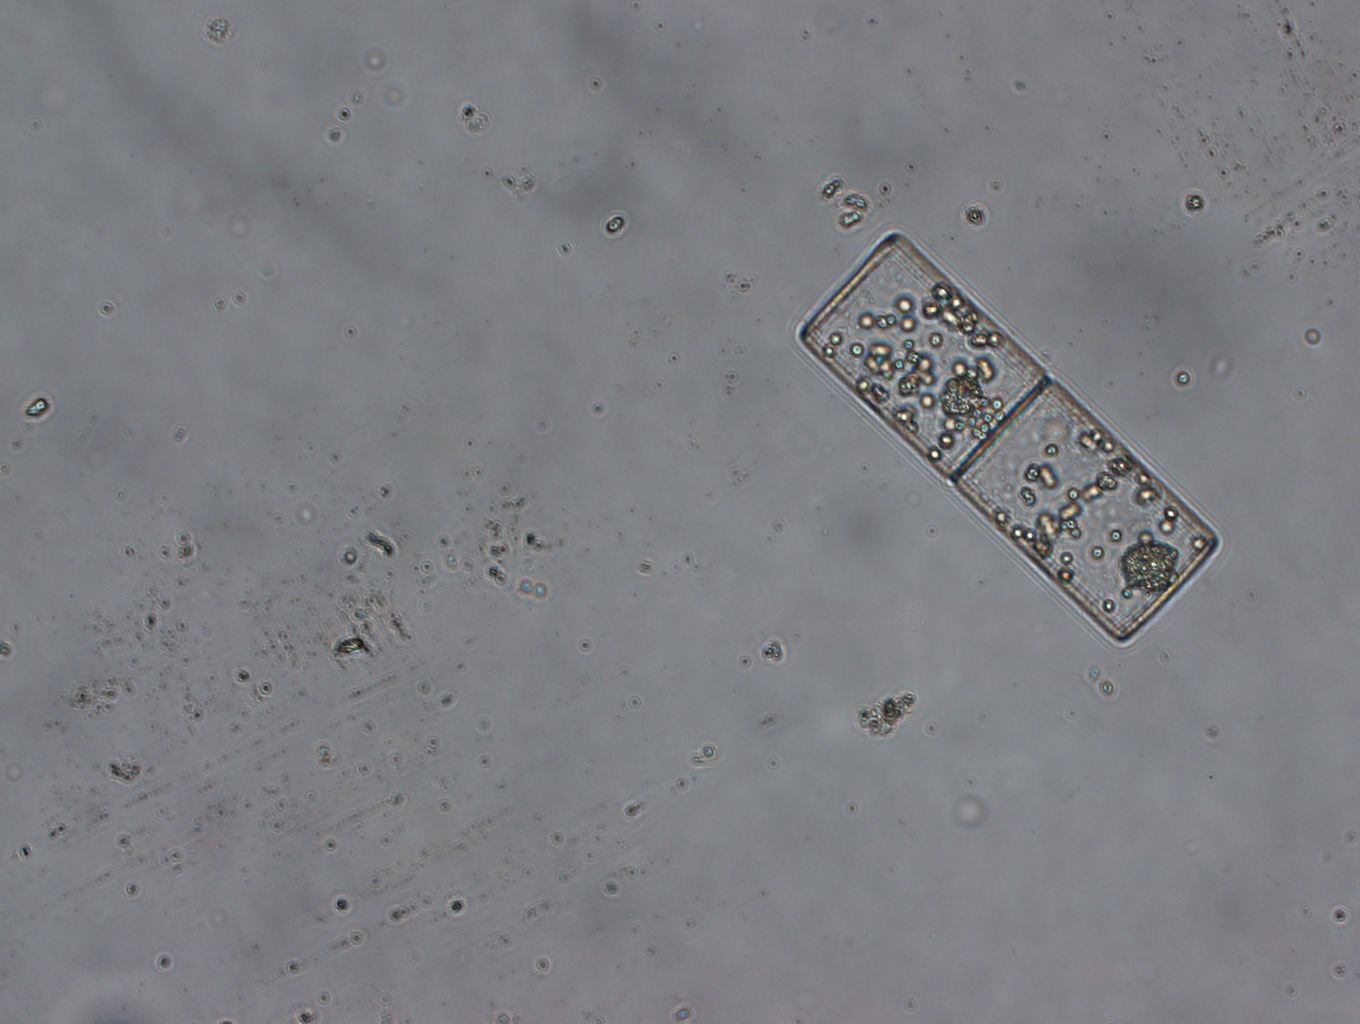guinardia flaccida: (794, 229, 1223, 648)
